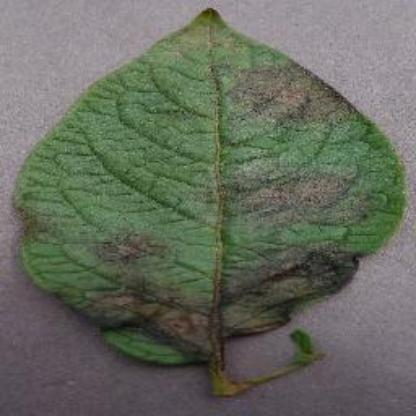Late-Blight: (10, 5, 412, 400)
